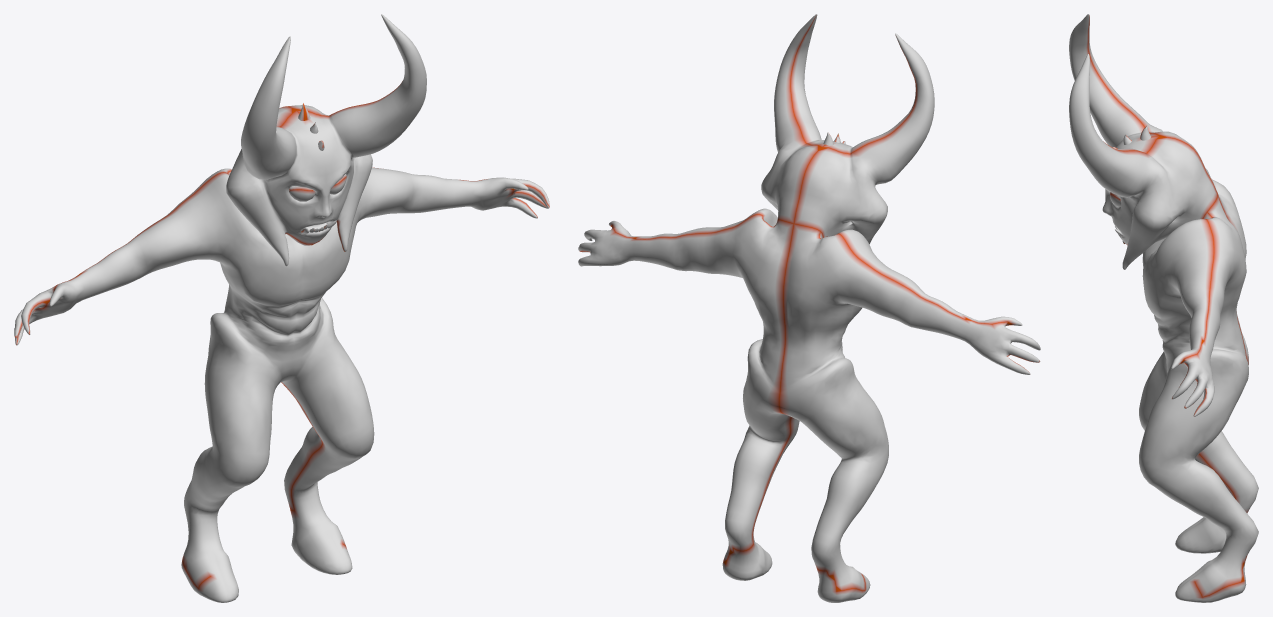
File: CH_Zorn.fbx
3 renders of one model, left to right at view 1: azimuth 30°, elevation 25°; view 2: azimuth 150°, elevation 25°; view 3: azimuth 270°, elevation 25°, orthographic. The views are drawn at different scales.
Visible parts, largest first — view 1: PM3D_Skin_ZSphere_11_SeamsColor; view 2: PM3D_Skin_ZSphere_11_SeamsColor; view 3: PM3D_Skin_ZSphere_11_SeamsColor.
Boxes of the visible parts, x1,y1,x2,y2 form: PM3D_Skin_ZSphere_11_SeamsColor: [14, 14, 549, 602]; PM3D_Skin_ZSphere_11_SeamsColor: [578, 14, 1040, 602]; PM3D_Skin_ZSphere_11_SeamsColor: [1069, 14, 1258, 602].
Size of the model in its own units: 3.76 by 4.04 by 1.29.
